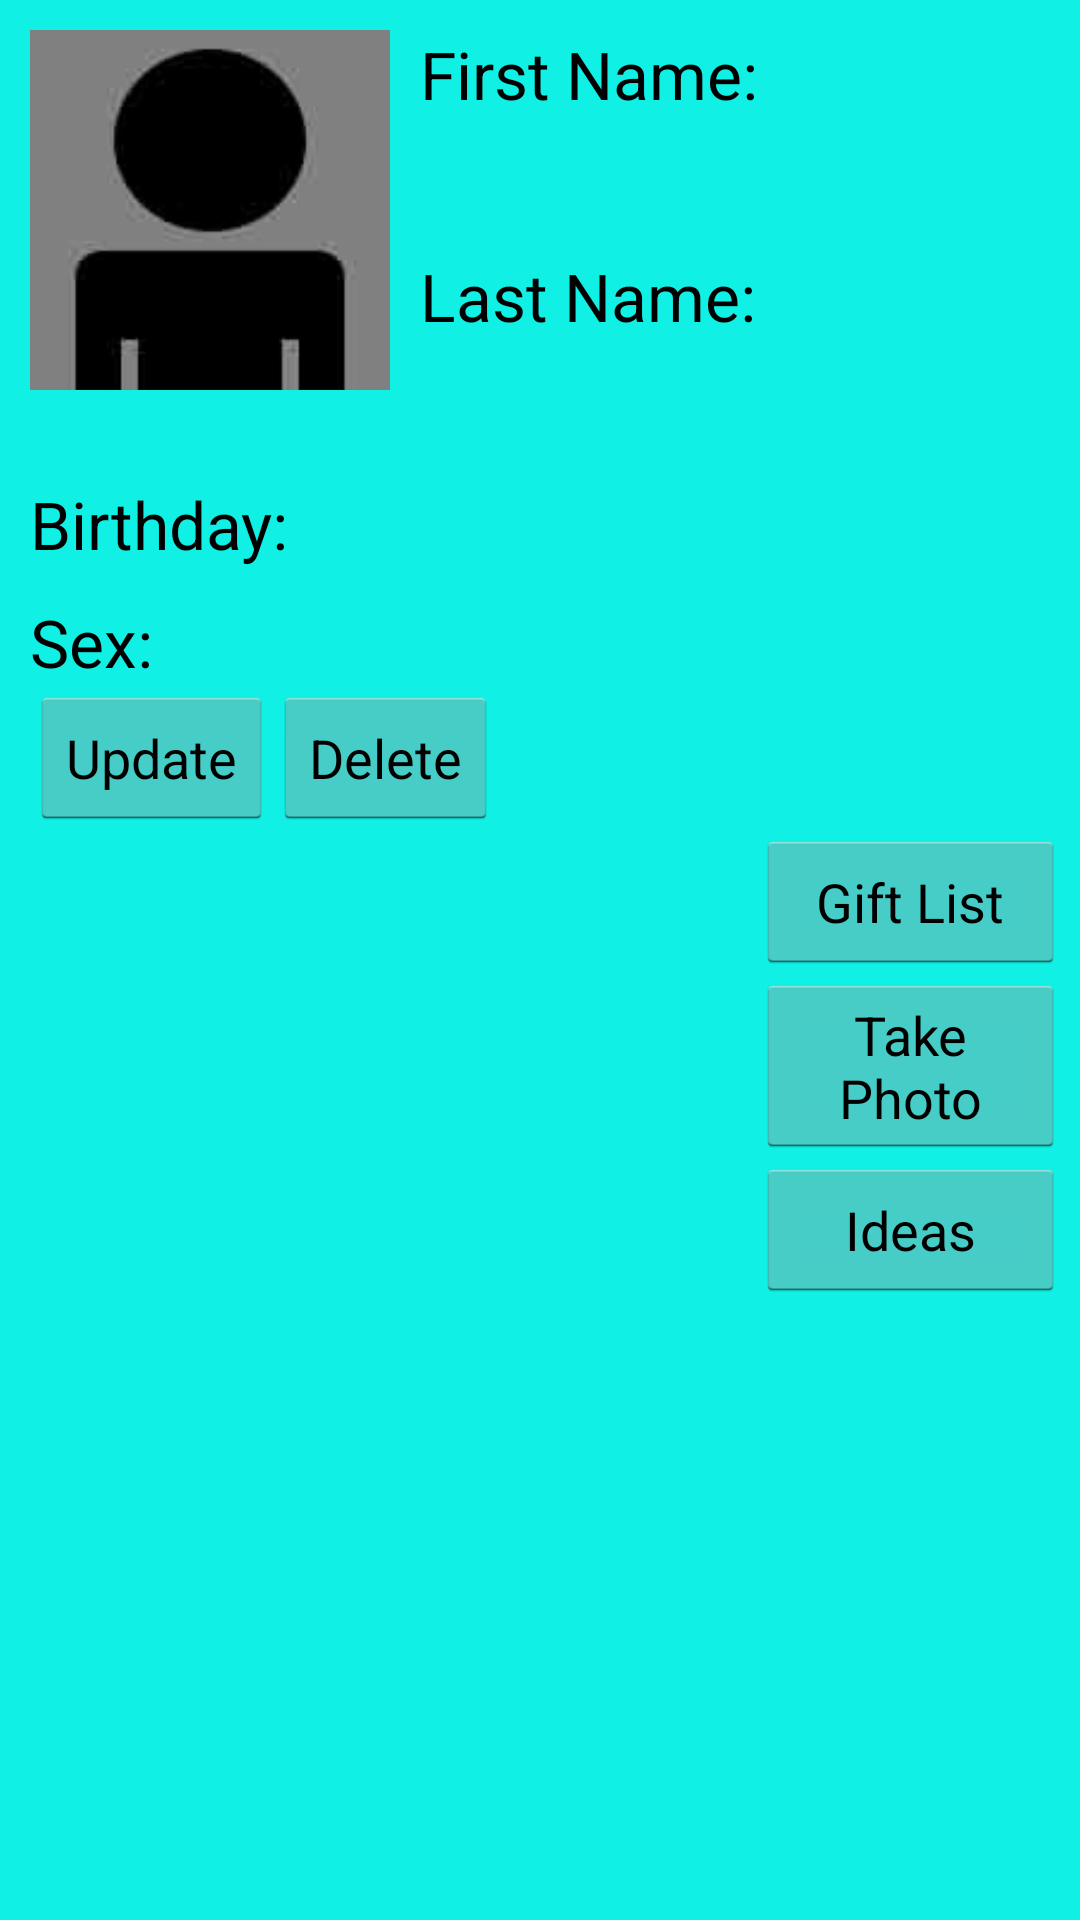

Icons on this 1080x1920 Android screen, each with the point to tap as point (x, y):
contact holder: point (210, 210)
